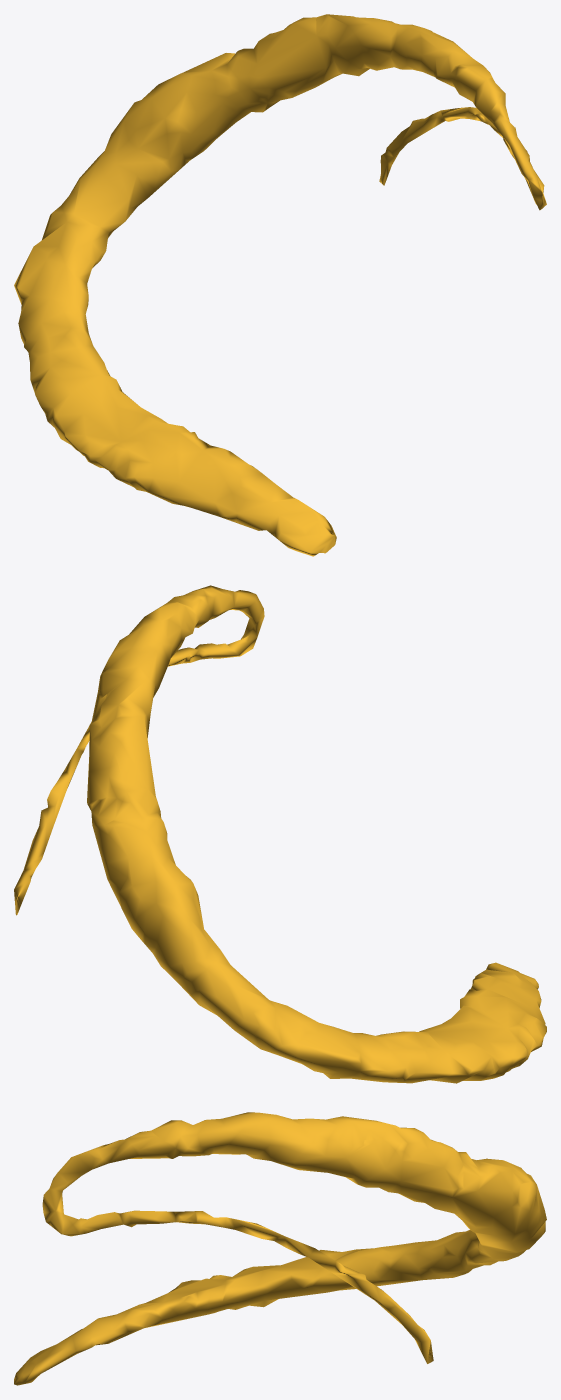
Rendered from nervoso-choroid-plexus-r.glb.
3 renders of one model, top to bottom at view 1: azimuth 30°, elevation 25°; view 2: azimuth 150°, elevation 25°; view 3: azimuth 270°, elevation 25°, orthographic. The views are drawn at different scales.
Visible parts, largest first — view 1: Choroid plexus.r; view 2: Choroid plexus.r; view 3: Choroid plexus.r.
Part boxes in pixels (x1,y1,x2,y2): Choroid plexus.r: (14,14,546,556); Choroid plexus.r: (14,585,546,1083); Choroid plexus.r: (14,1112,546,1385).
Bounding box in the file's own units: 0.0363 × 0.0329 × 0.0421.
